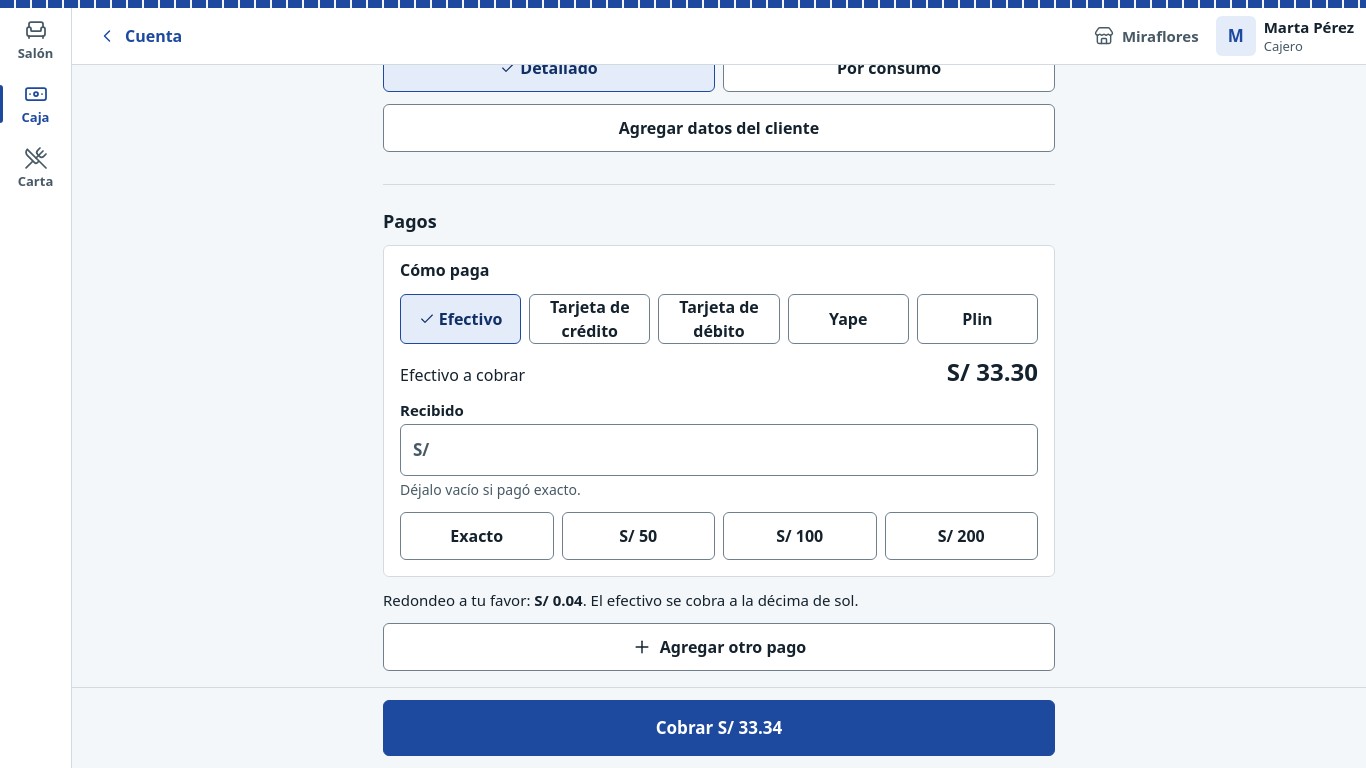
Test: El cobro de una cuenta (criterios 47 a 52 y 111) › el efectivo se redondea a la décima a favor del cliente con el redondeo del dominio
The image size is (1366, 768).
(page scrolled)
Expected: the text "S/ 33.30" is shown, x1=947 y1=356 x2=1038 y2=388
Expected: the text "Redondeo a tu favor: S/ 0.04. El efectivo se cobra a la décima de sol." is shown, x1=383 y1=590 x2=858 y2=610
Click the button "S/ 50".
click(638, 536)  # box x1=562 y1=512 x2=715 y2=560
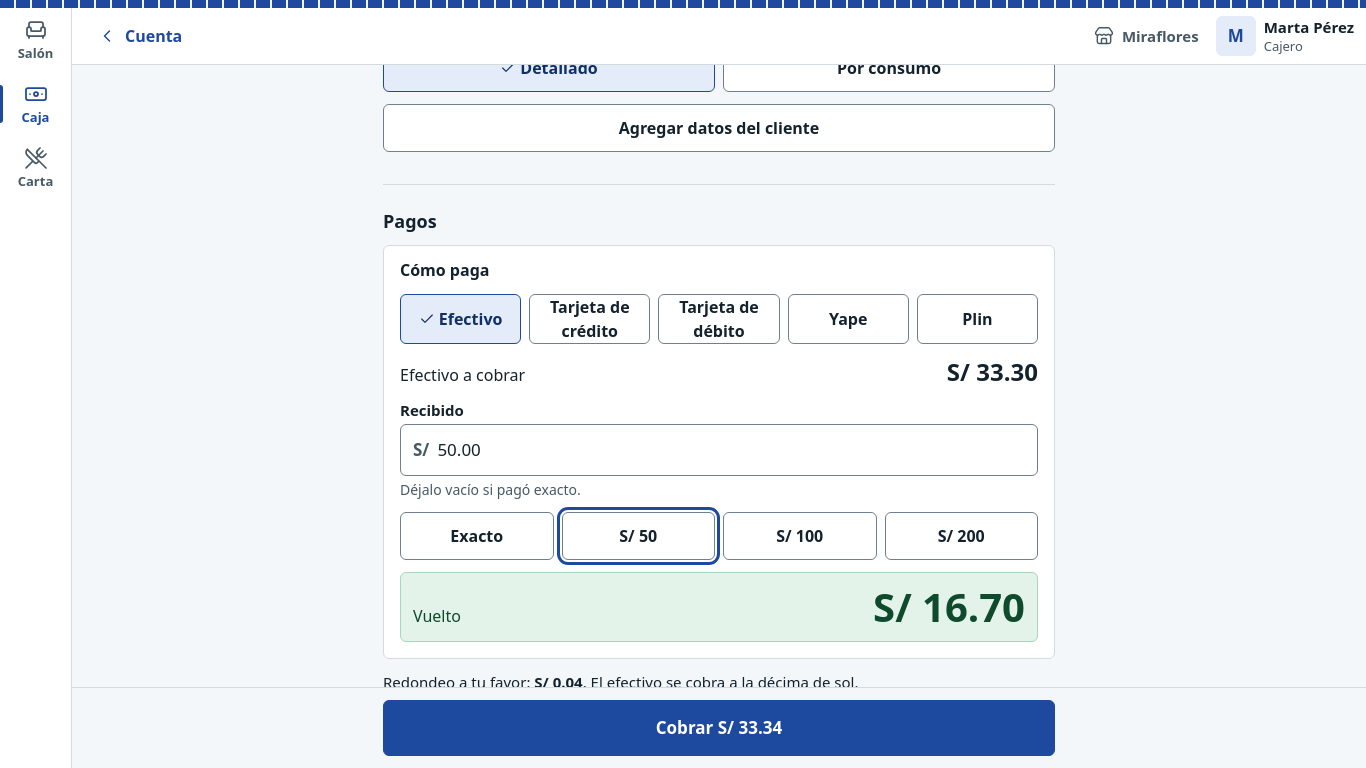
Result: the text "S/ 16.70" is shown at x1=873 y1=585 x2=1025 y2=629
Click the button "Cobrar S/ 33.34".
click(719, 728)  # box x1=383 y1=700 x2=1055 y2=756
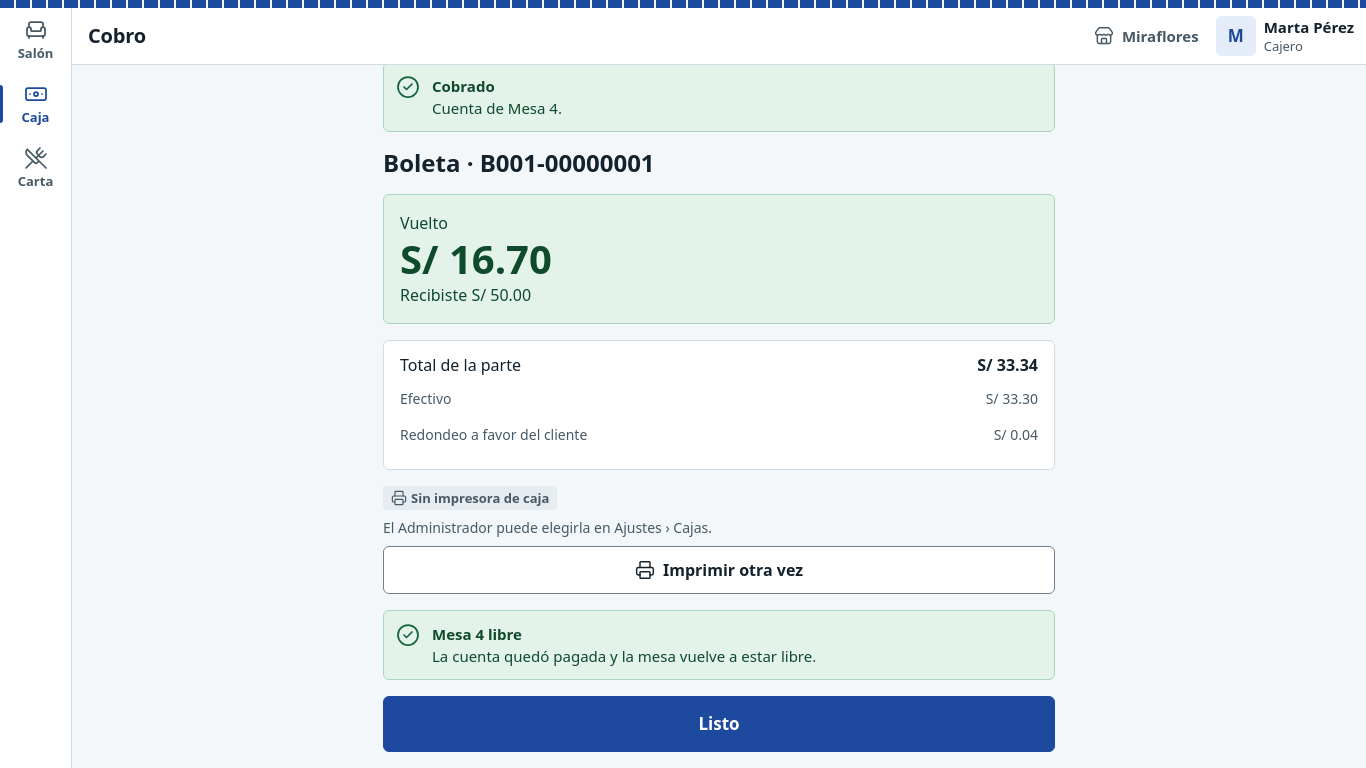
Result: the text "Boleta · B001-00000001" is shown at x1=383 y1=146 x2=655 y2=179
